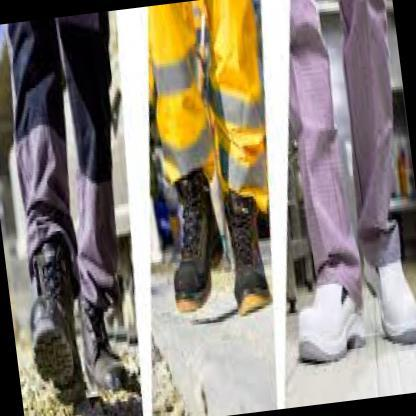safety-shoe: (16, 249, 84, 415), (217, 184, 277, 349), (168, 182, 231, 332)
